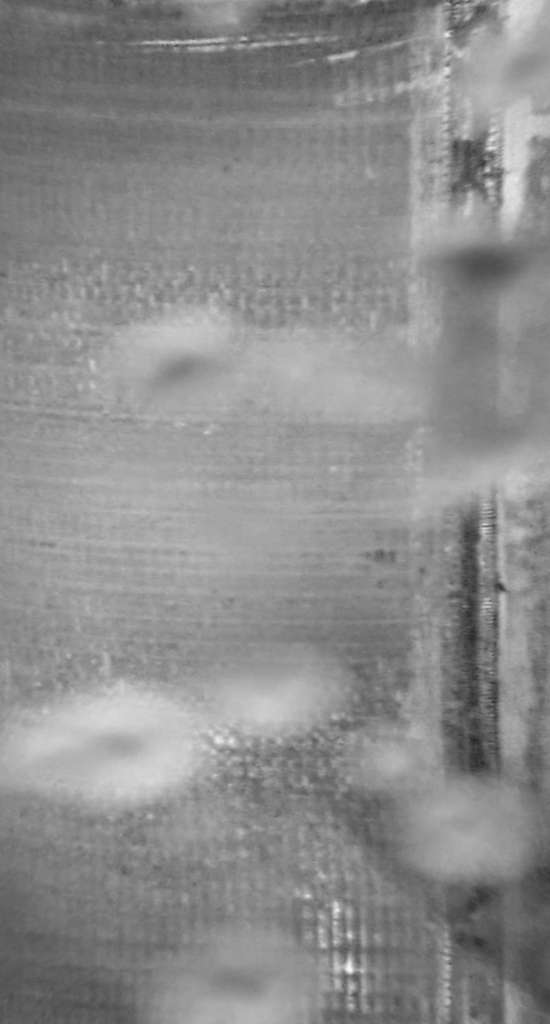splice: (431, 3, 516, 1023)
